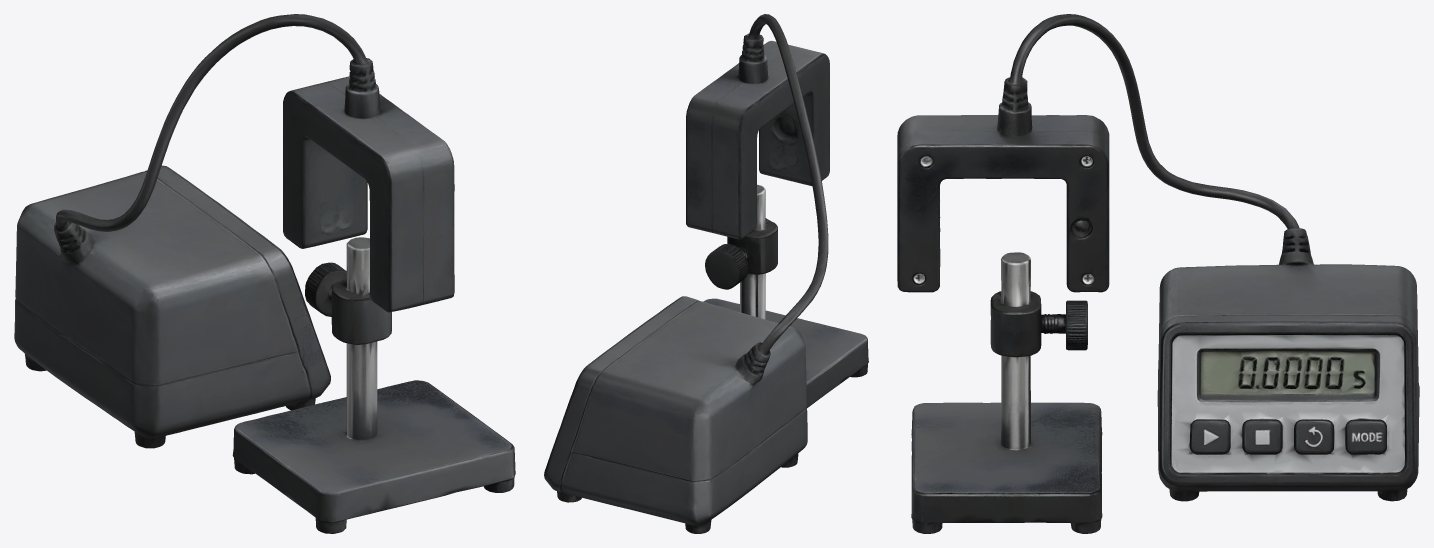
File: photogate.glb
3 views of the same model, side by side, from view 1: azimuth 30°, elevation 25°; view 2: azimuth 150°, elevation 25°; view 3: azimuth 270°, elevation 25° (orthographic). The views are drawn at different scales.
Visible parts, largest first — view 1: photogate; view 2: photogate; view 3: photogate.
Boxes of the visible parts, x1,y1,x2,y2 form: photogate: (14,14,515,533); photogate: (544,14,868,533); photogate: (897,14,1419,533).
Size of the model in its own units: 0.1807 by 0.283 by 0.3.
Materials: 1 (1 with a texture image).
